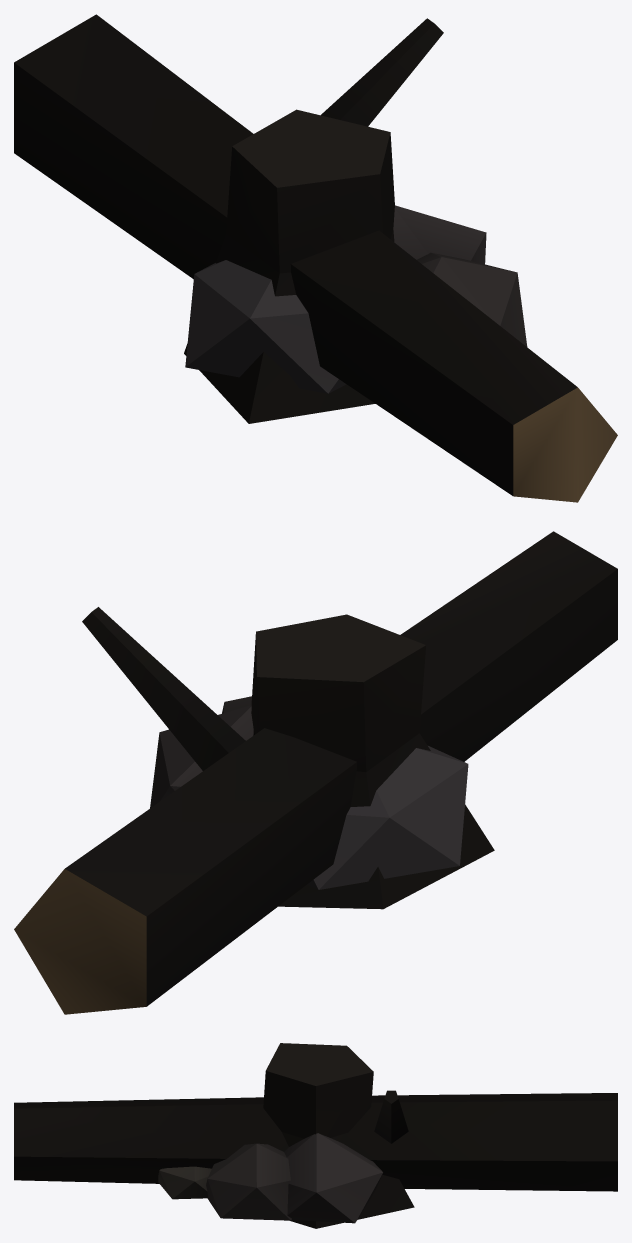
File: debris_volcano_lod1.glb
3 renders of one model, top to bottom at view 1: azimuth 30°, elevation 25°; view 2: azimuth 150°, elevation 25°; view 3: azimuth 270°, elevation 25°, orthographic. The views are drawn at different scales.
Parts seen in each view (by area): view 1: v1, v2, v0; view 2: v1, v2, v0; view 3: v1, v0, v2.
Boxes of the visible parts, <box> form: v1: <box>14,14,617,502</box>; v2: <box>184,109,394,423</box>; v0: <box>185,205,527,393</box>; v1: <box>14,531,617,1014</box>; v2: <box>251,614,494,909</box>; v0: <box>150,696,468,889</box>; v1: <box>14,1090,617,1191</box>; v0: <box>158,1133,382,1223</box>; v2: <box>263,1043,414,1228</box>.
Size of the model in its own units: 0.302 by 0.2282 by 0.8.
